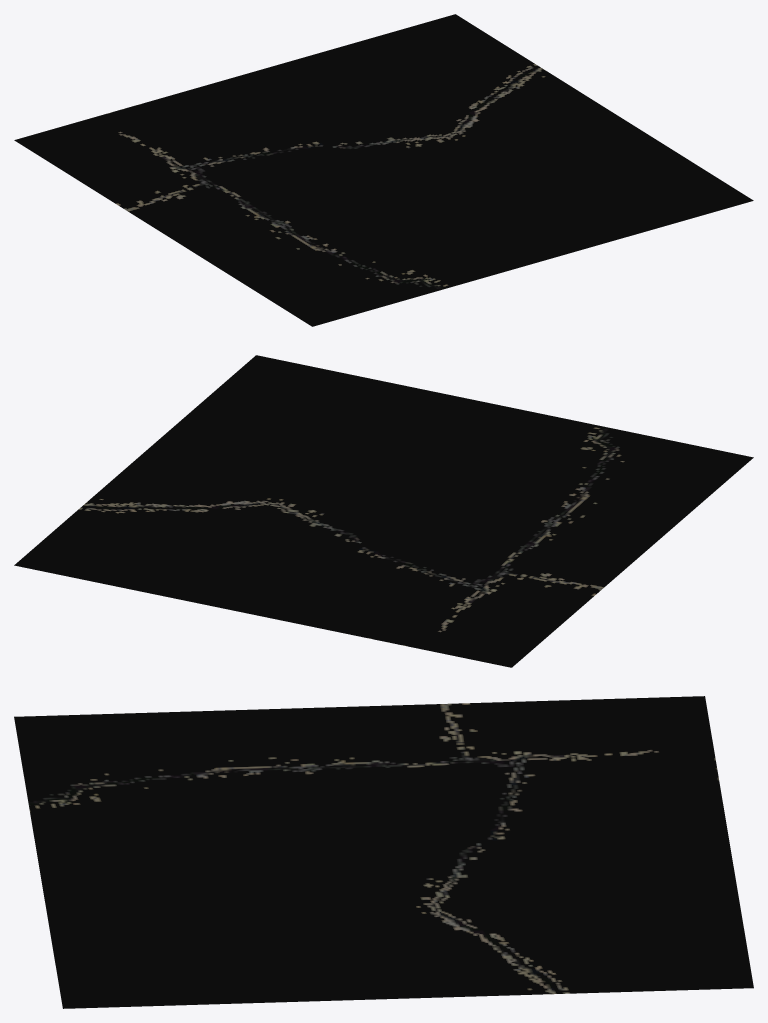
Rendered from Rubble1.fbx.
3 views of the same model, one above another, from view 1: azimuth 30°, elevation 25°; view 2: azimuth 150°, elevation 25°; view 3: azimuth 270°, elevation 25° (orthographic). The views are drawn at different scales.
Visible parts, largest first — view 1: Rubble1; view 2: Rubble1; view 3: Rubble1.
Boxes of the visible parts, x1=… form: Rubble1: x1=14, y1=14, x2=753, y2=326; Rubble1: x1=14, y1=355, x2=753, y2=667; Rubble1: x1=14, y1=696, x2=753, y2=1008.
Bounding box in the file's own units: 148 × 3.09e-14 × 148.
